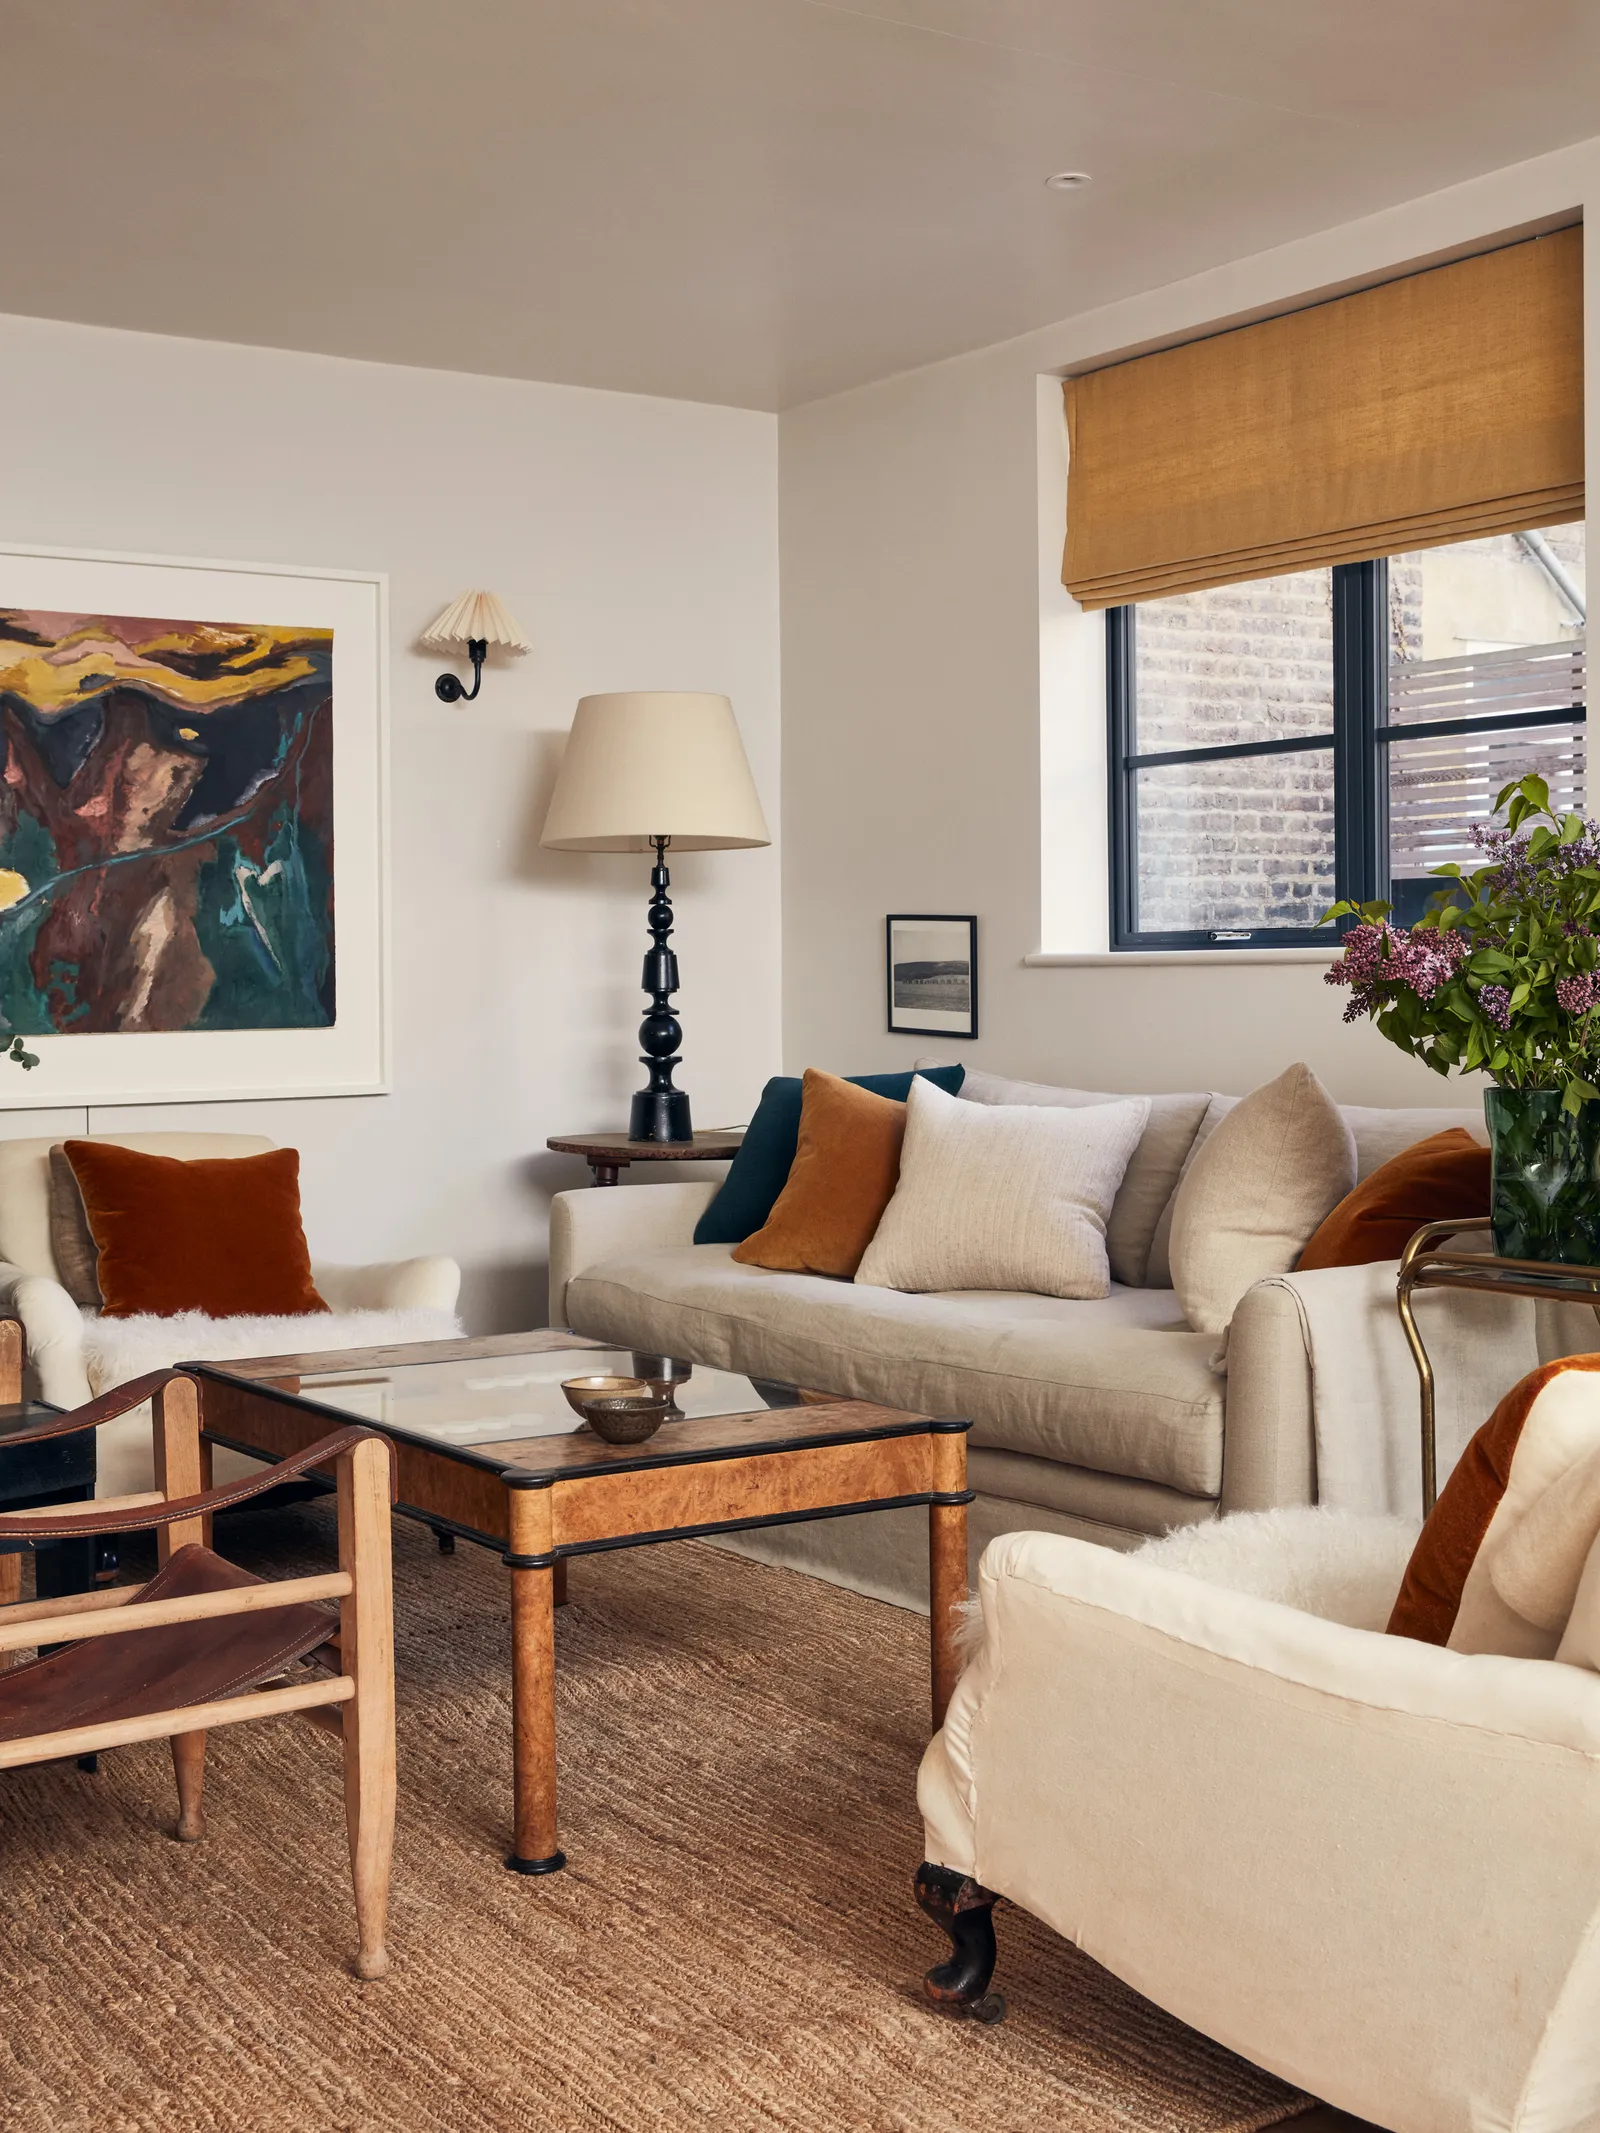chair: (919, 1365, 1600, 2115), (0, 1356, 417, 1988), (12, 1106, 476, 1407)
flower vase: (1319, 760, 1600, 1267)
sofa: (534, 1062, 1597, 1540)
table: (183, 1319, 987, 1884)
table lamp: (543, 672, 780, 1151)
wall art: (0, 533, 403, 1118), (872, 893, 982, 1039)
